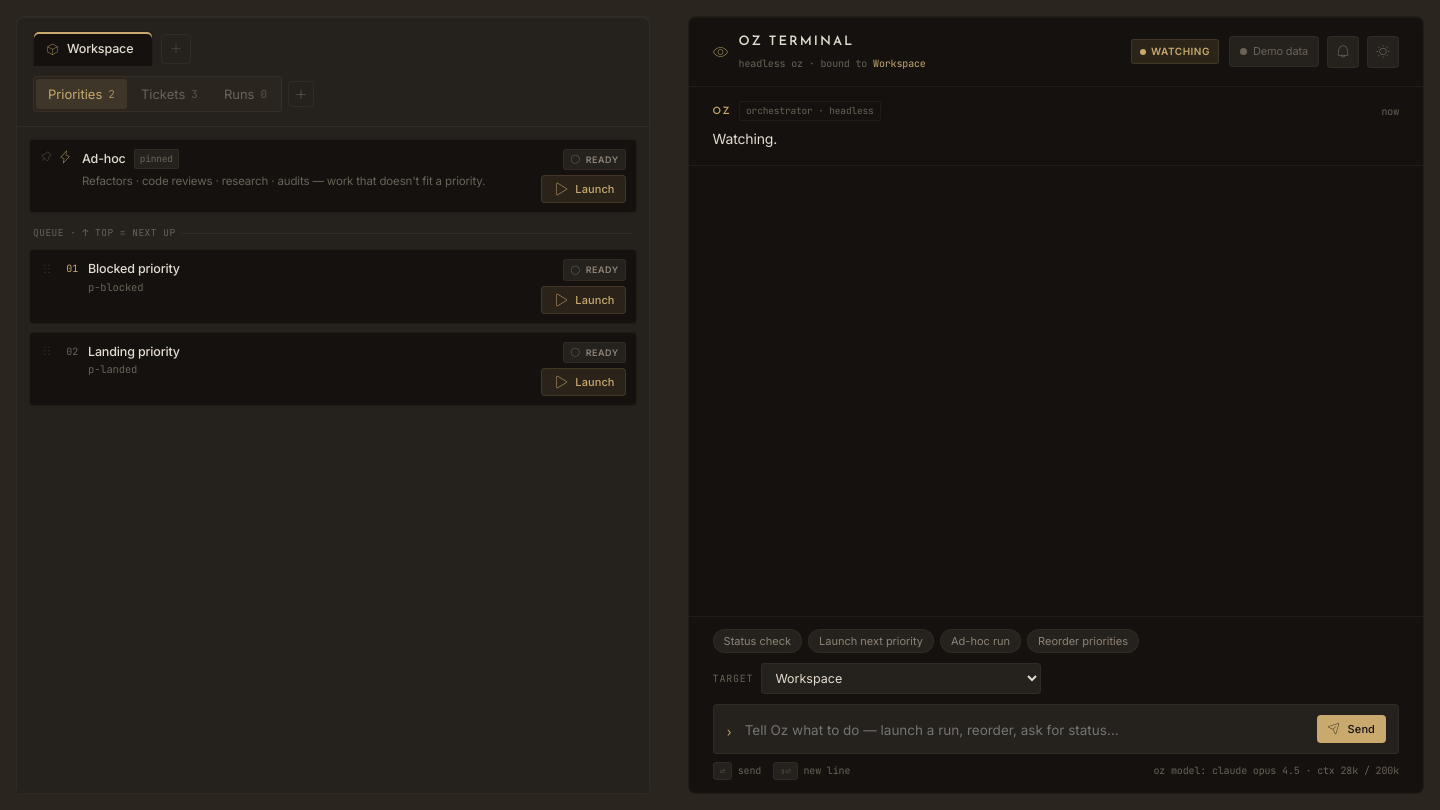
it: Dashboard layout › lists compact open-ticket cards and opens a readable detail modal
What coordinates should you click on to do the following:
click the button "Tickets 3"
I would click on:
 (169, 94)
Its box is top-left (129, 79), bottom-right (210, 109).
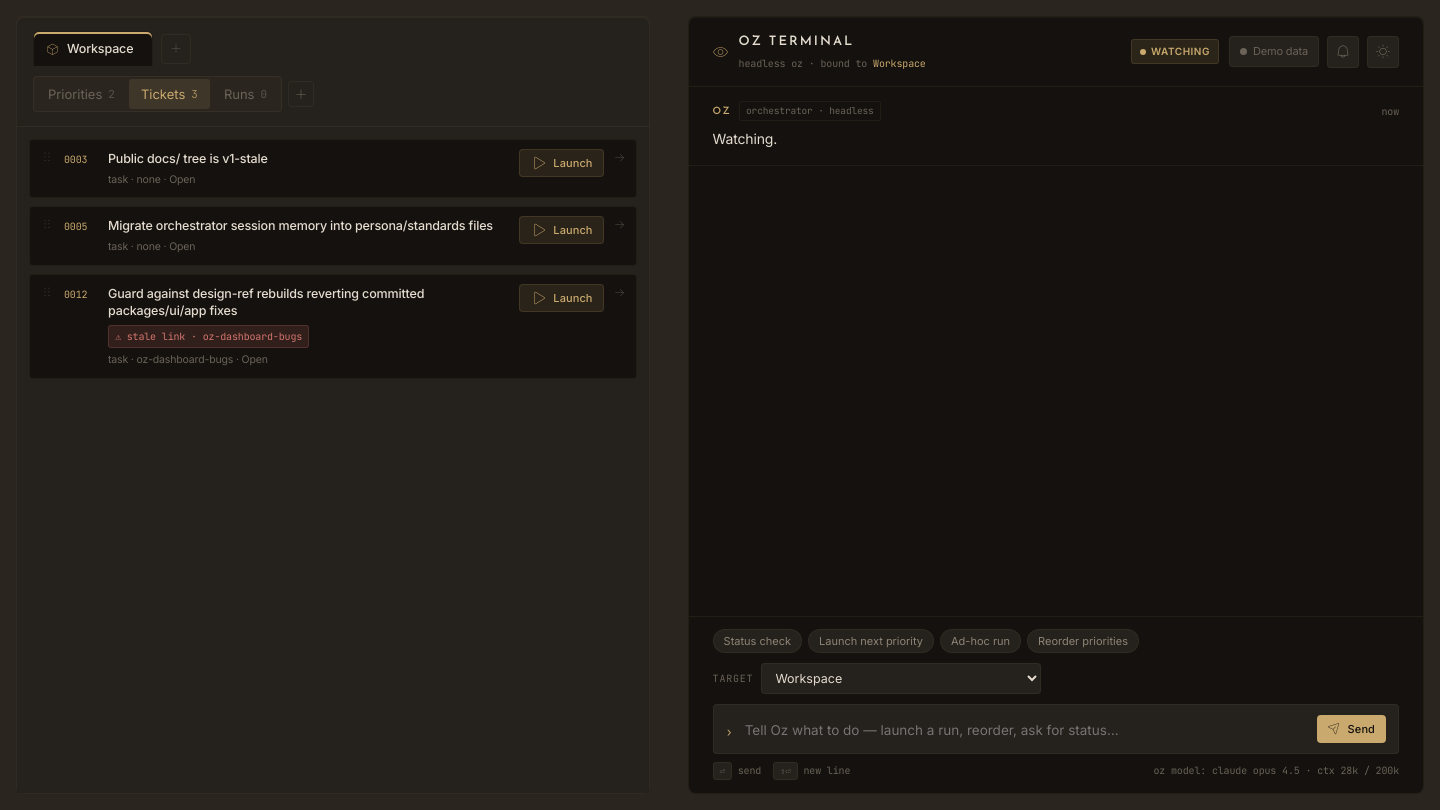
Check: the text "0003" is shown, box top-left (64, 153), bottom-right (87, 166)
Check: the text "0005" is shown, box top-left (64, 220), bottom-right (87, 233)
Check: the text "0012" is shown, box top-left (64, 288), bottom-right (87, 301)
What coordinates should you click on to do the following:
click the text "Guard against design-ref rebuilds reverting committed packages/ui/app fixes"
I would click on:
 (266, 302)
Its box is top-left (108, 286), bottom-right (424, 318).
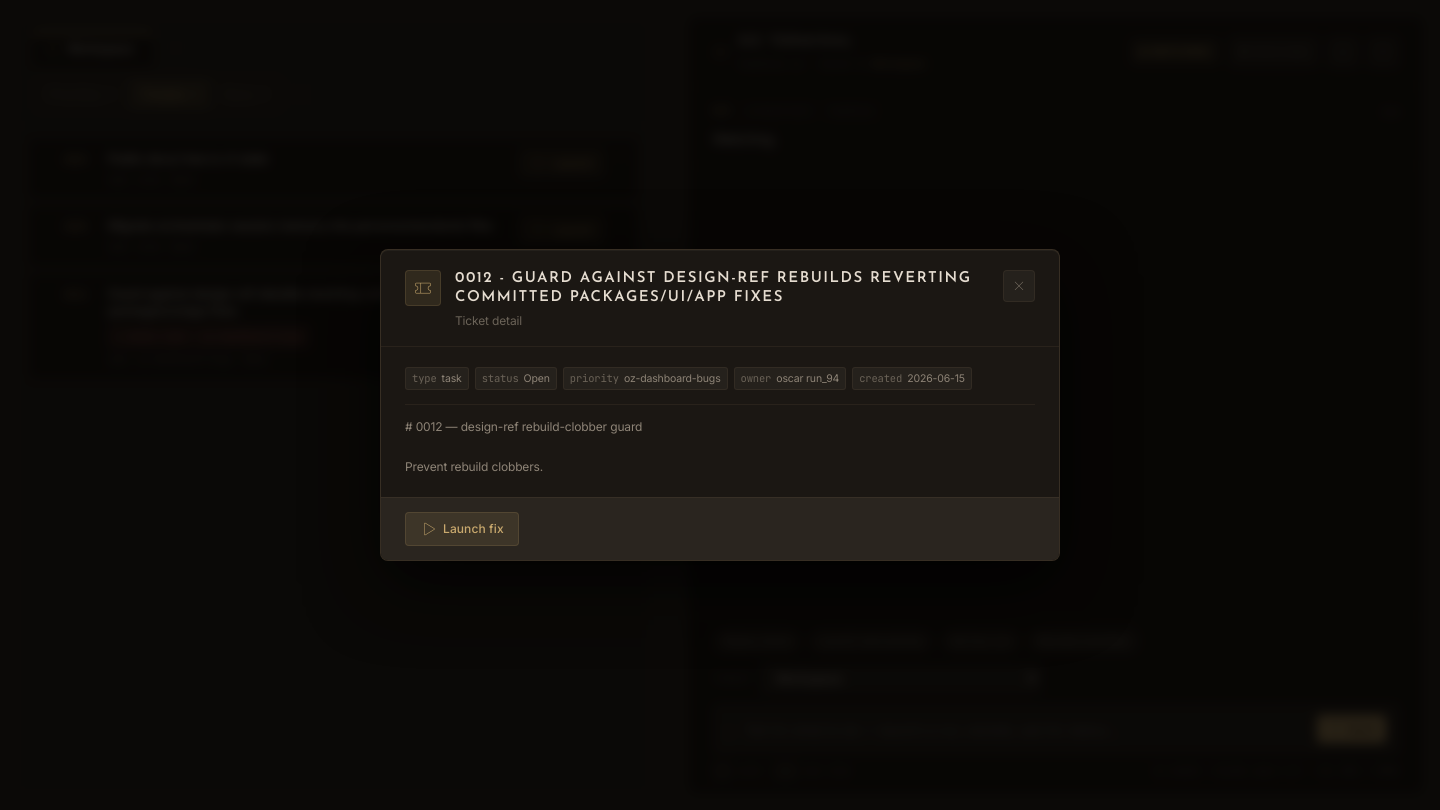
Check: the heading "0012 - Guard against design-ref rebuilds reverting committed packages/ui/app fixes" is shown, box top-left (455, 271), bottom-right (972, 305)
Check: the text "owner" is shown, box top-left (740, 370), bottom-right (771, 387)
Check: the text "oscar run_94" is shown, box top-left (776, 372), bottom-right (839, 385)
What coordinates should you click on to do the following:
click the button titled "Close (Esc)"
I would click on:
 (1019, 286)
Its box is top-left (1003, 270), bottom-right (1035, 302).
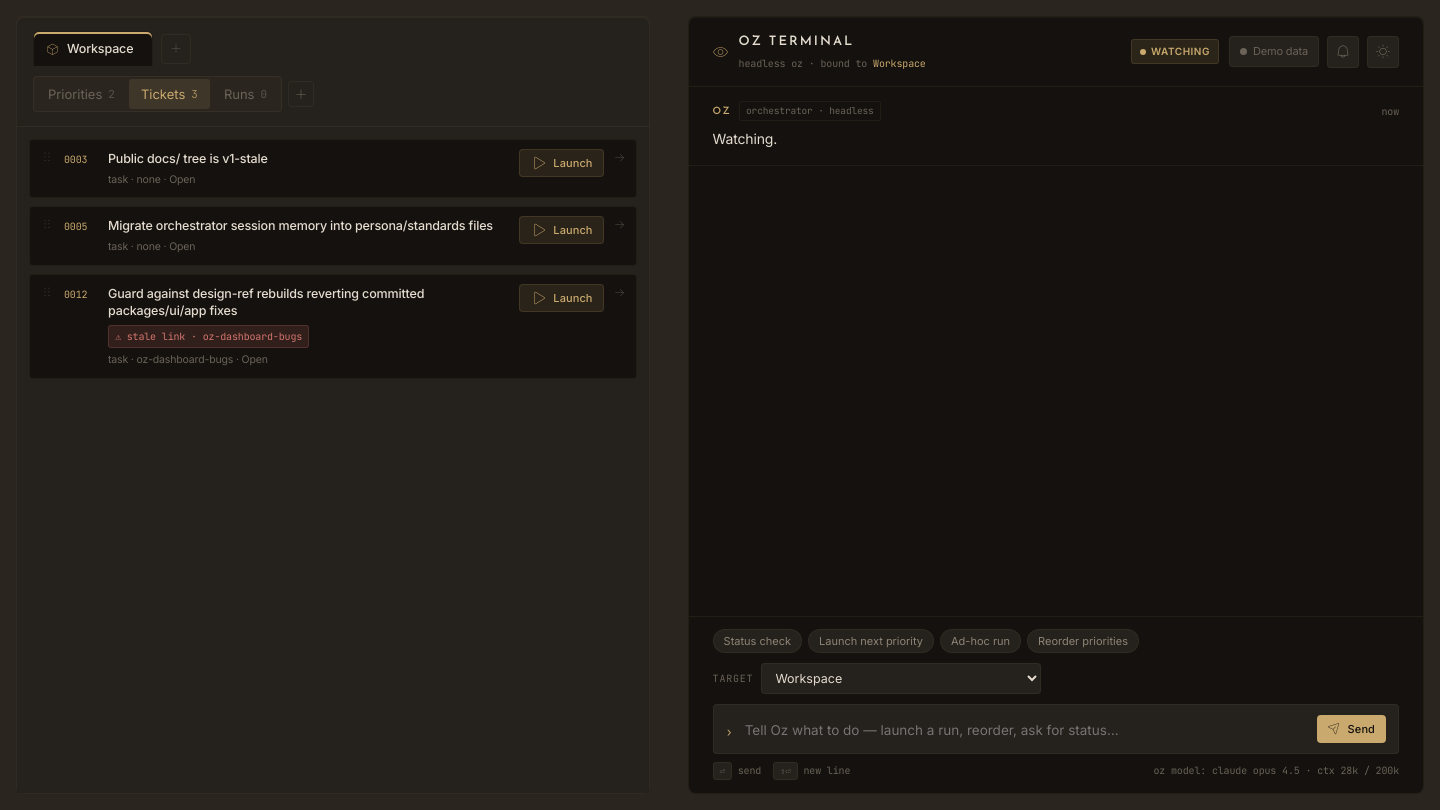
Check: the text "Guard against design-ref rebuilds reverting committed packages/ui/app fixes" is shown, box top-left (108, 286), bottom-right (424, 318)
Check: the text "Prevent rebuild clobbers" is gone
